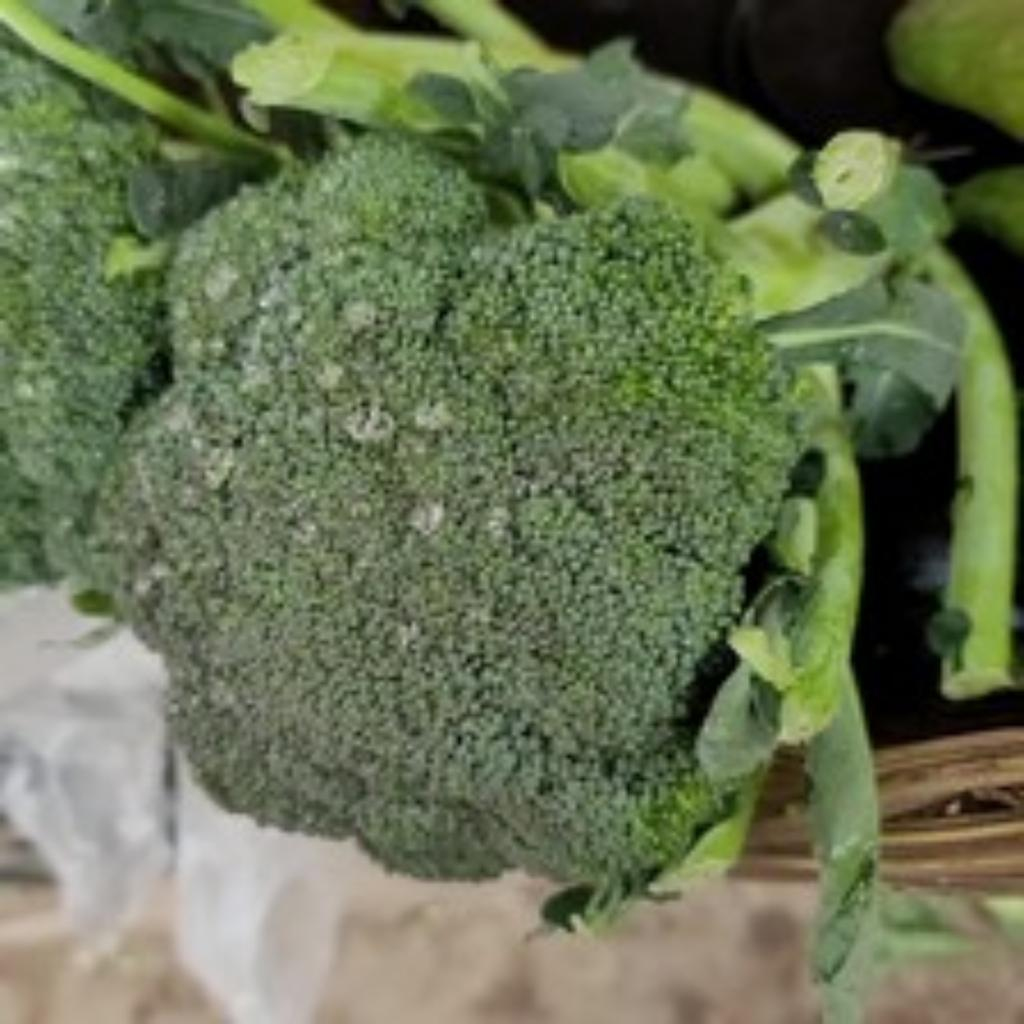Broccoli: (114, 138, 798, 885), (116, 138, 796, 889), (0, 42, 164, 579), (0, 44, 162, 579)
